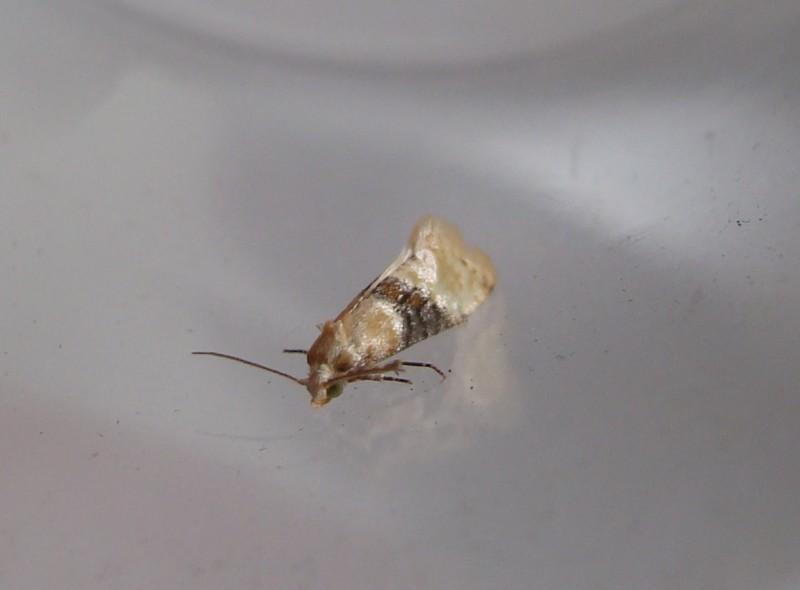Eupoecilia Ambiguella: (190, 211, 500, 411)
